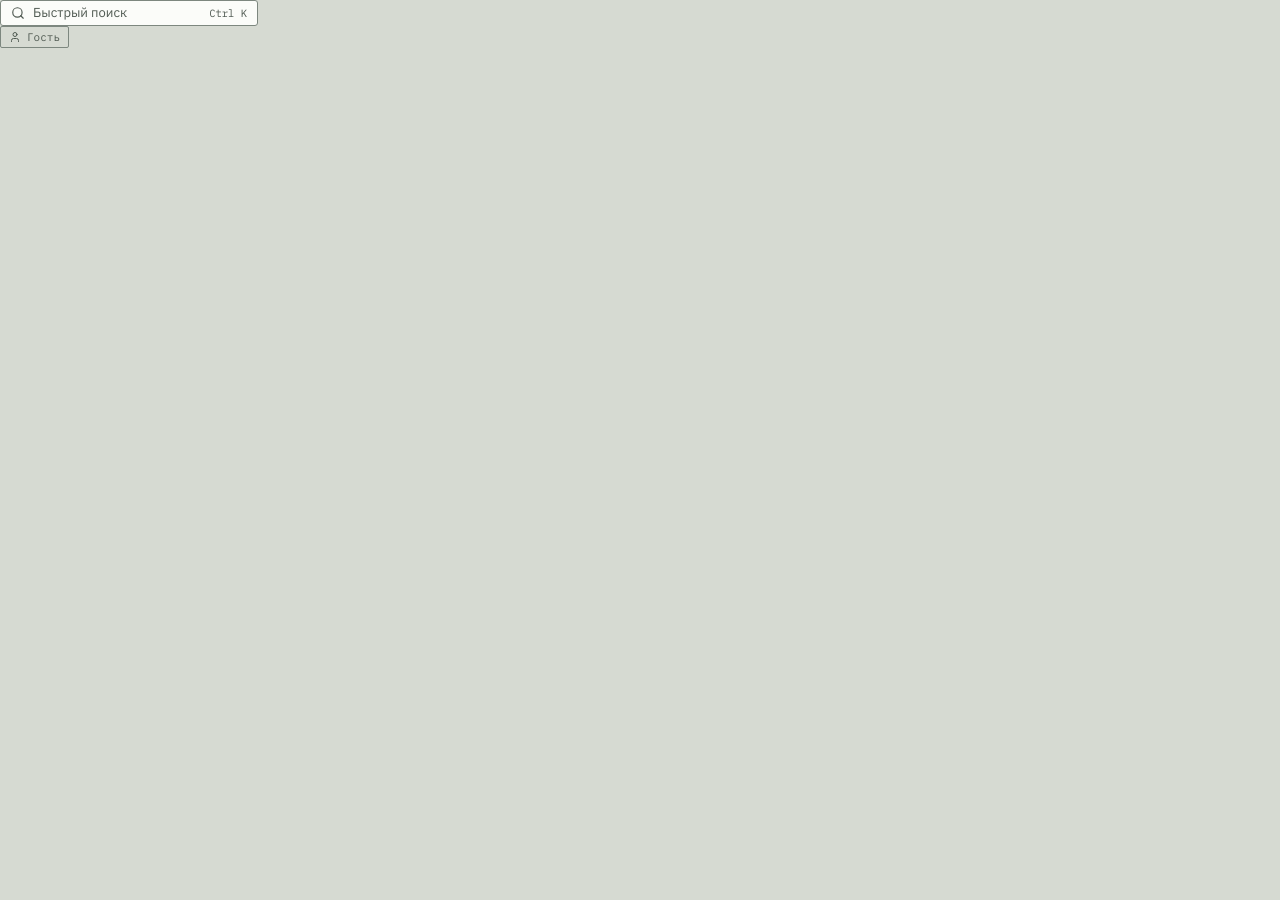
Test: opens the palette by Ctrl+K and finds a problem
Type keys "{Control>}k{/Control}"
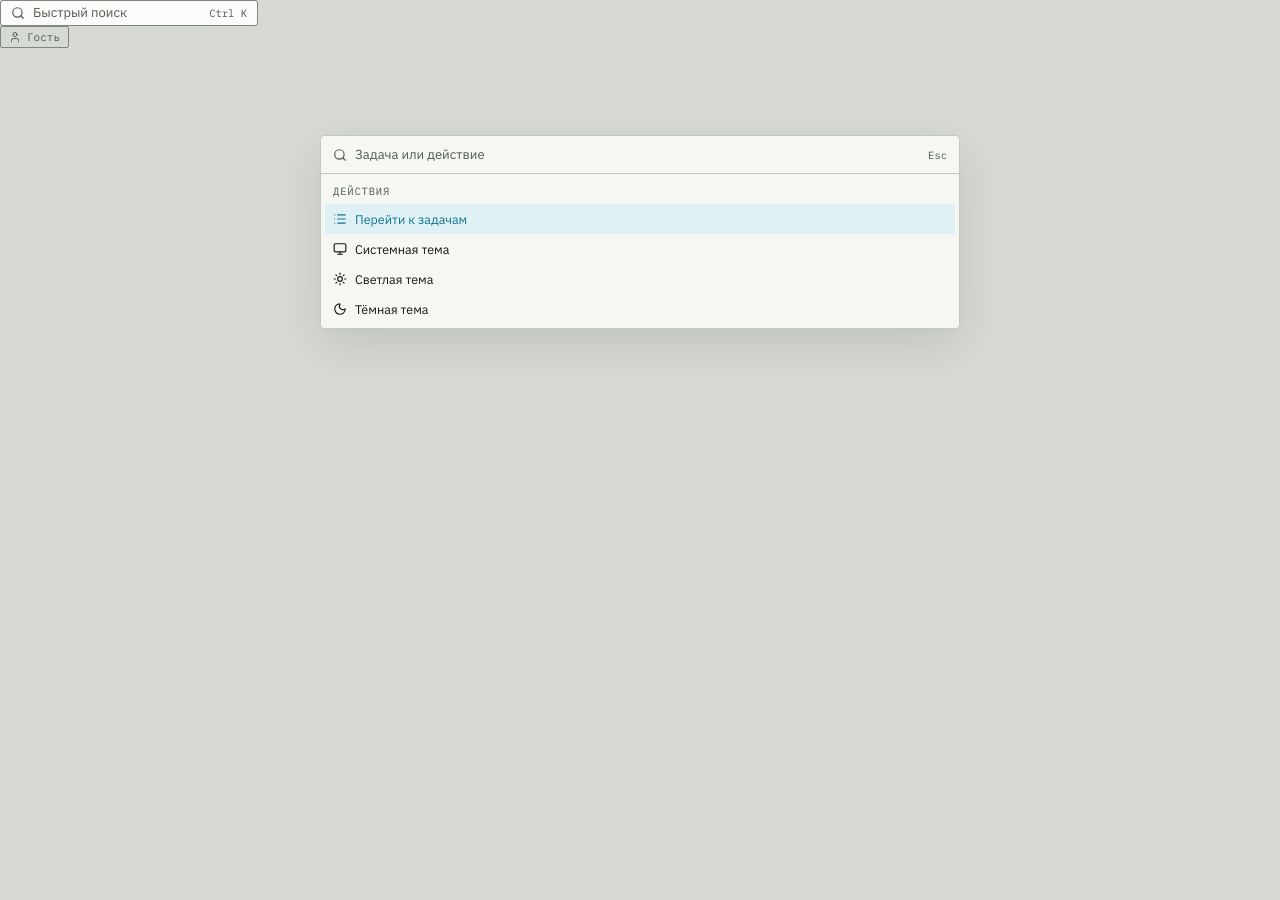
Check: the element "Задачи" is not shown
Check: the dialog named "Палитра команд" is shown, box [320,135,960,329]
Check: the option "Перейти к задачам" is shown, box [325,204,955,234]
Type "fifo" into the dropdown.
click(638, 154); type("fifo")  # box [355,136,920,173]
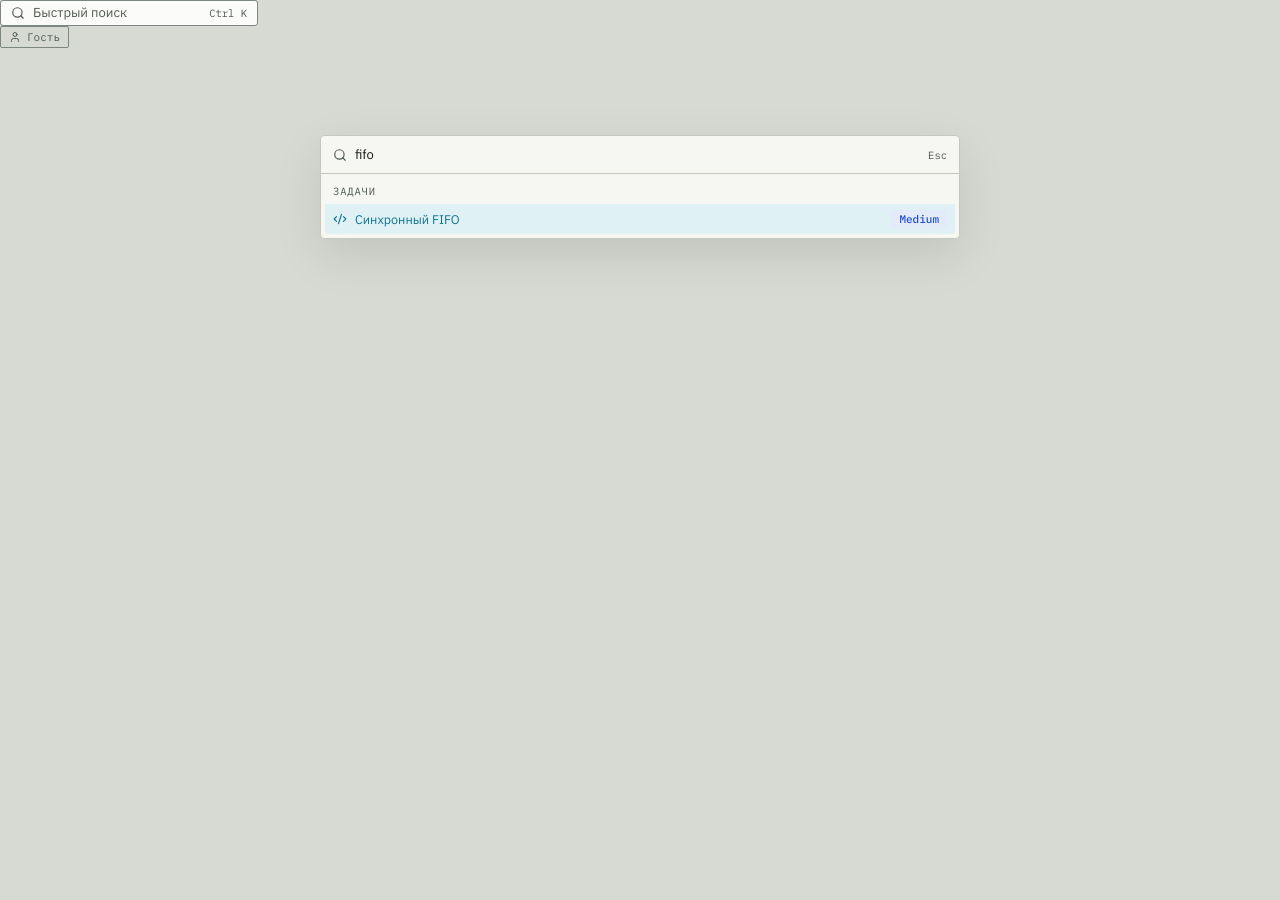
Check: the option "Перейти к задачам" is gone
Press Enter
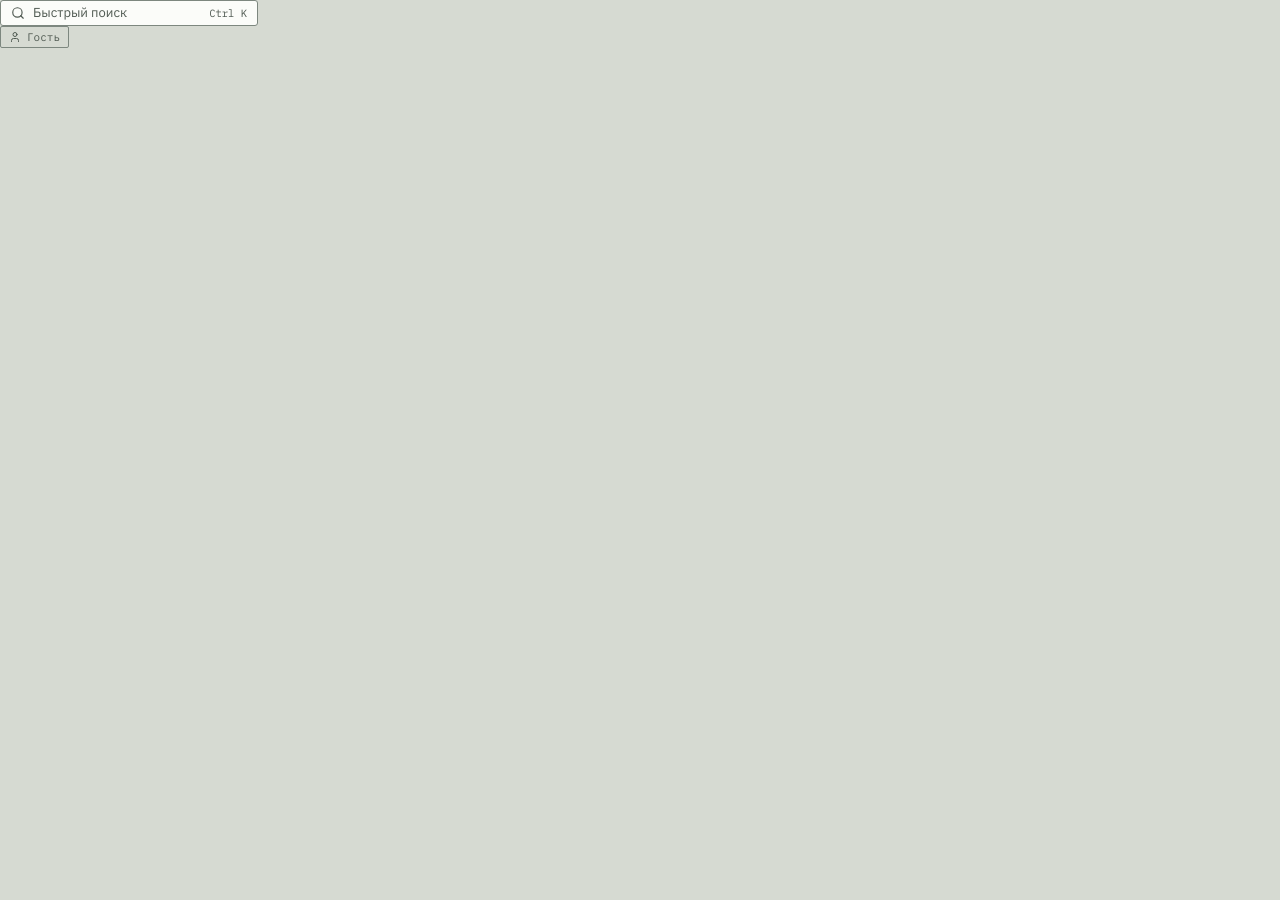
Check: the dialog is gone
